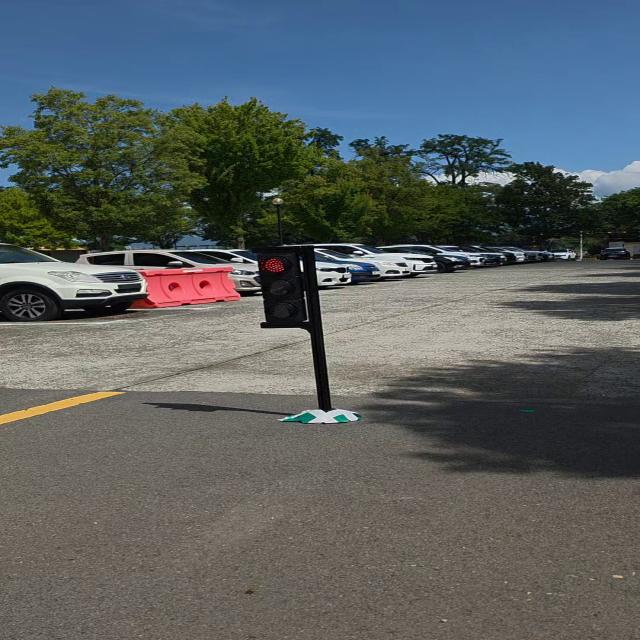red: (253, 249, 320, 333)
